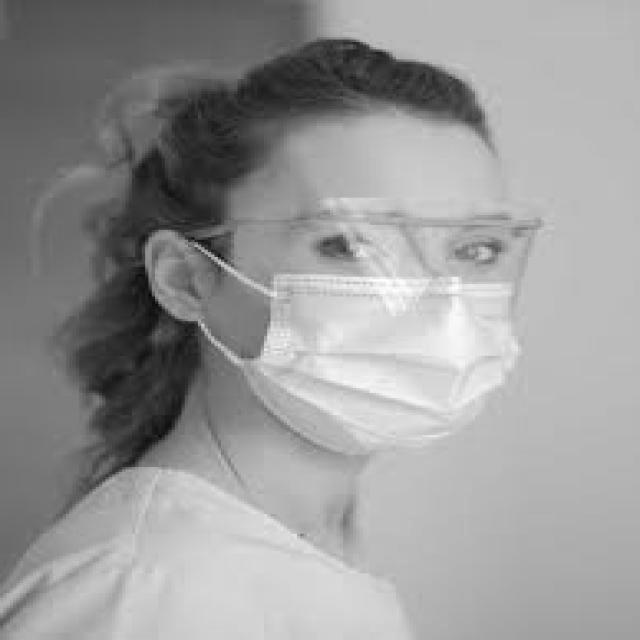fake: (237, 274, 524, 461)
real: (225, 119, 525, 470)
